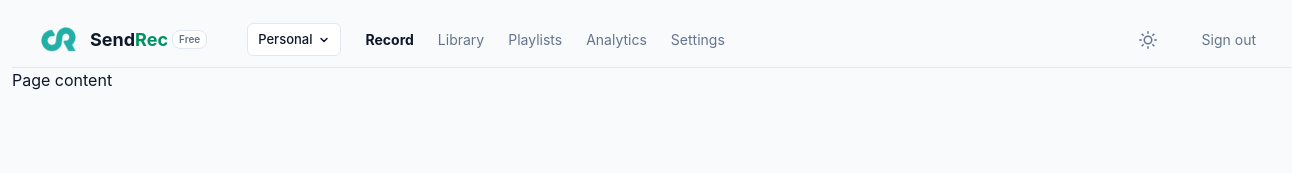
Layout › closes org dropdown on Escape key
Click the button named "Switch workspace" at (294, 40), box [247,23,342,56]
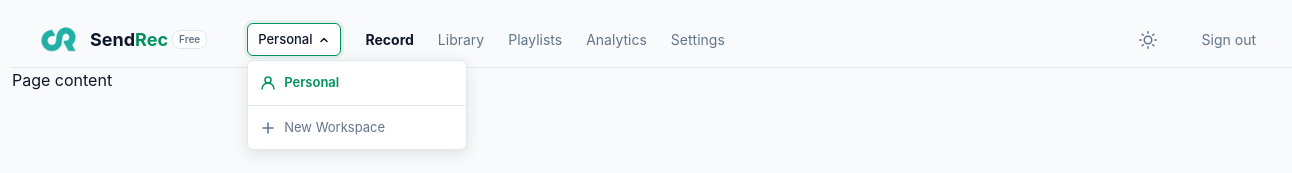
Result: the list named "Workspaces" is shown at [247,60,467,150]
Press Escape
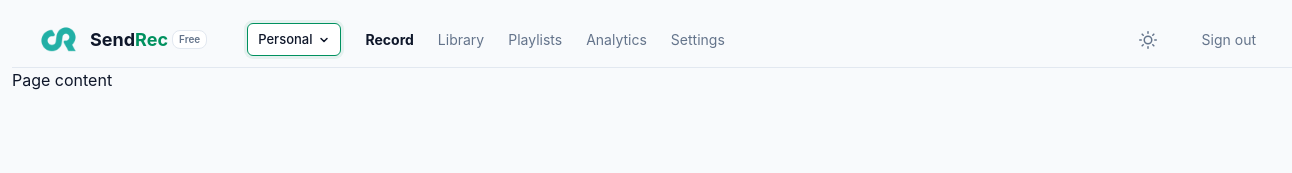
Result: the list "Workspaces" is gone
